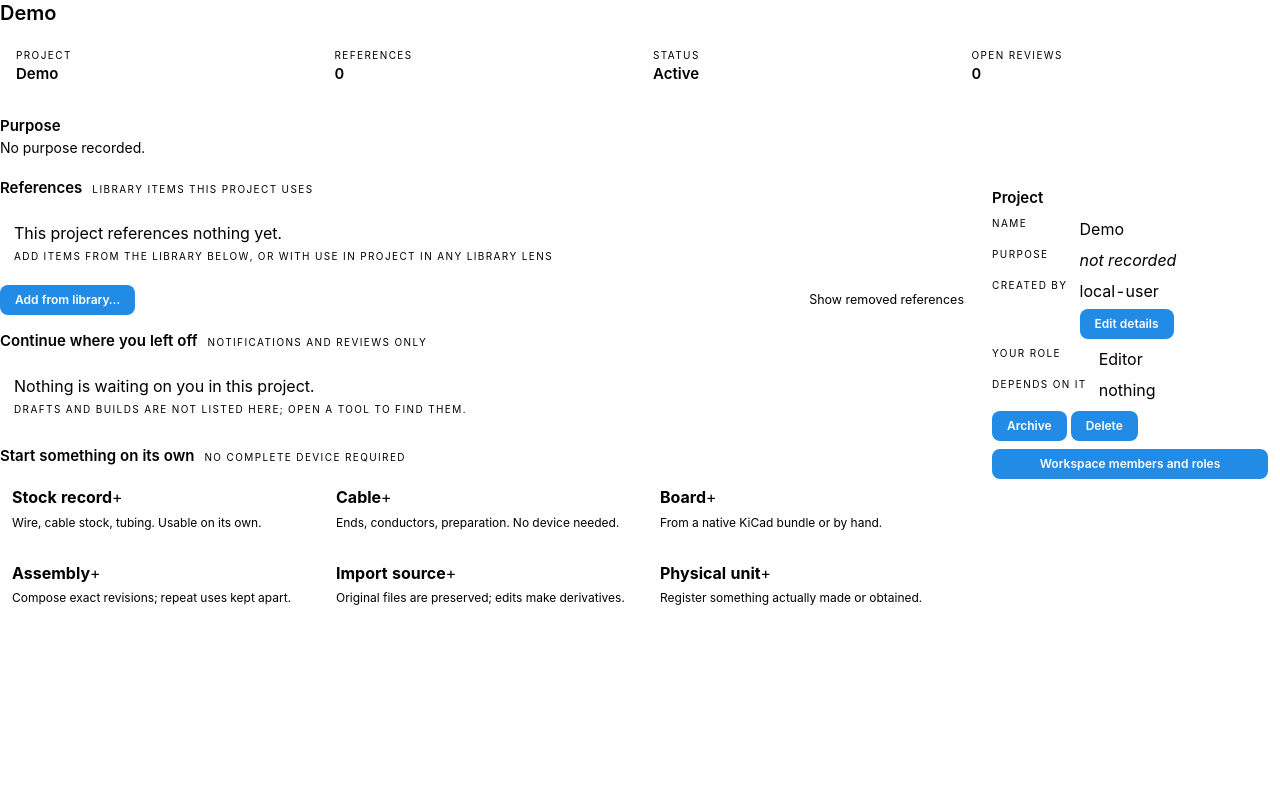
Test: adding from the library records a floating or explicitly pinned reference under the project state
This screenshot has width=1280, height=800.
Click the button "Add from library…".
click(68, 300)  # box x1=0 y1=285 x2=135 y2=315
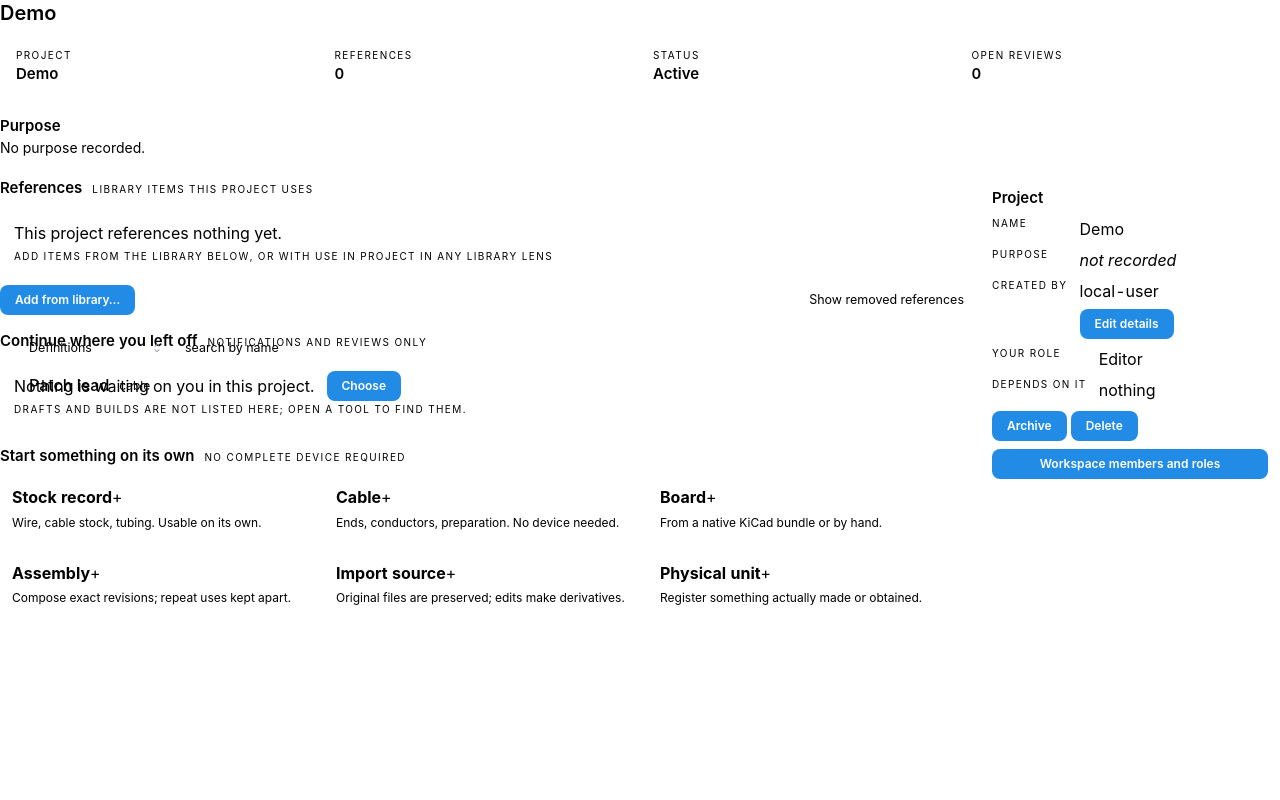
Click the button with aria-label "Choose Patch lead".
click(364, 386)  # box x1=326 y1=371 x2=401 y2=401
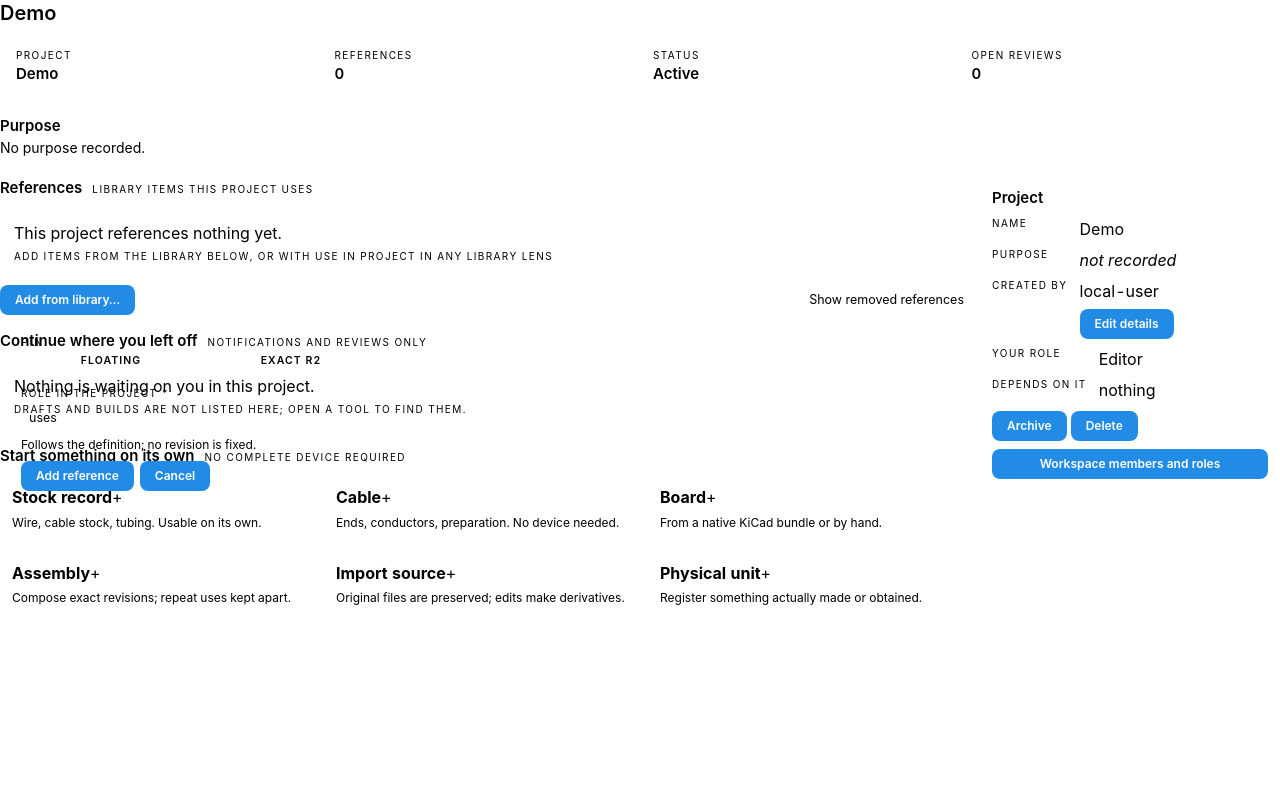
Click the radio button labelled "Exact r2".
click(291, 361)  # box x1=261 y1=354 x2=321 y2=367
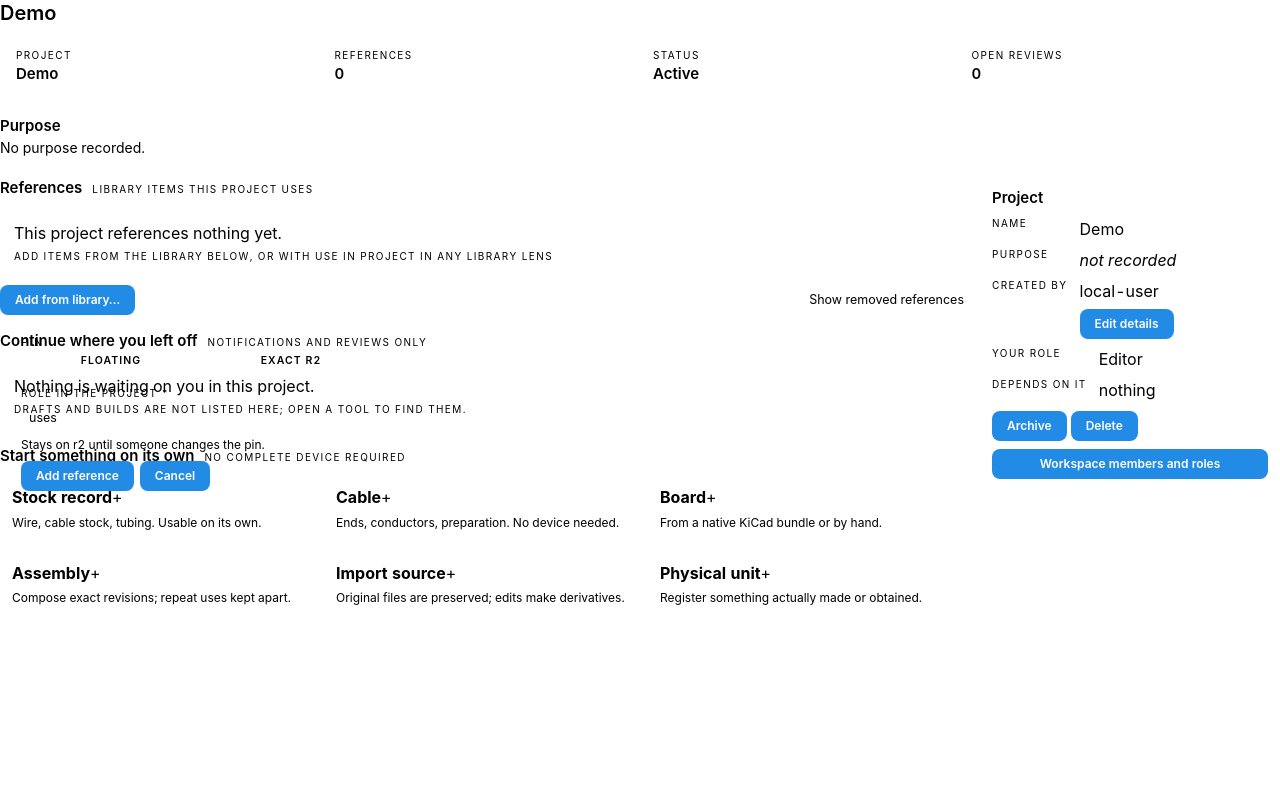
Submit the form named "Use Patch lead in a project", box x1=21 y1=335 x2=409 y2=491
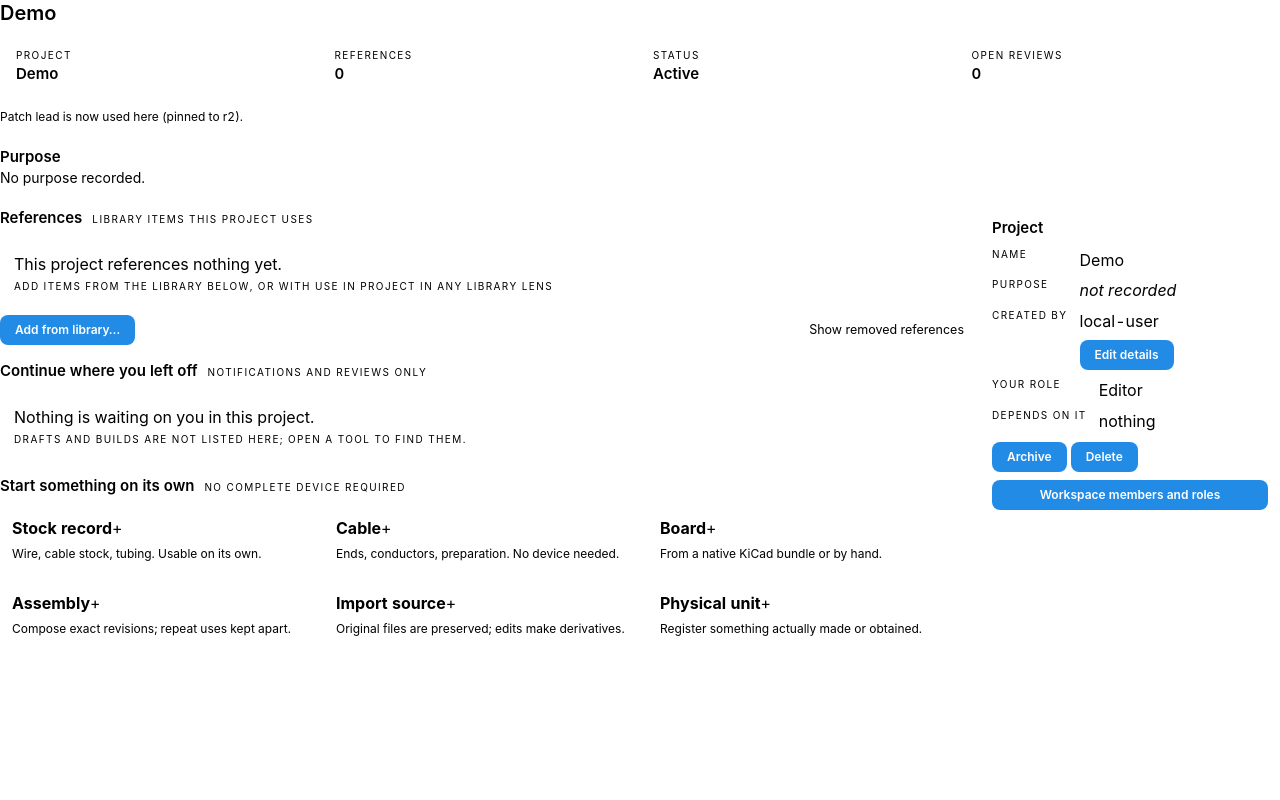
expect the text "Patch lead is now used here (pinned to r2)." is shown: met, box x1=0 y1=109 x2=243 y2=124
